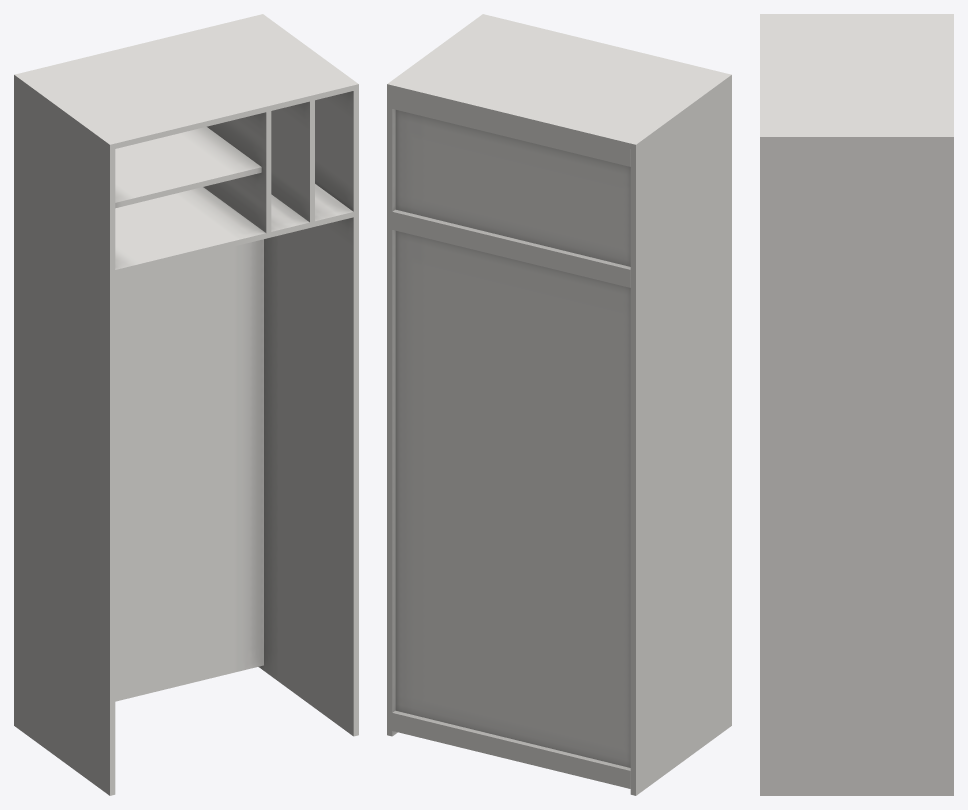
The model's file is tall-fridge-dividers-doors-off.glb.
The picture shows the model from 3 angles, left to right: view 1: azimuth 30°, elevation 25°; view 2: azimuth 150°, elevation 25°; view 3: azimuth 270°, elevation 25°; orthographic projection.
Parts seen in each view (by area): view 1: part_0; view 2: part_0; view 3: part_0.
Part boxes in pixels (box(x1,y1,x2,y2)): part_0: box(14, 14, 358, 795); part_0: box(387, 14, 731, 795); part_0: box(760, 14, 953, 795).
Size of the model in its own units: 0.9144 by 2.29 by 0.6096.
1 material, 1 textured.
